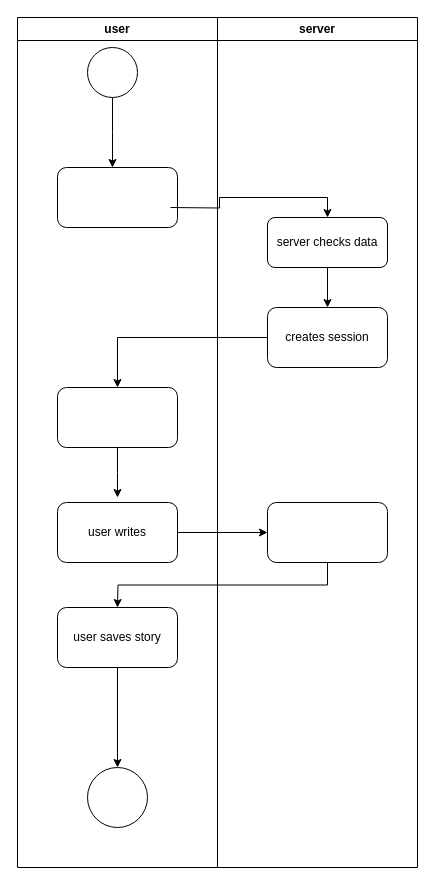
Image size: 435x885. Some labels were removed from this diagram. Here are the shapes that lost their labels. From the top down, the centre of each, then its label:
the point at 117,197: user logs in or creates account
the point at 117,417: user creates story
the point at 327,532: ai suggests
